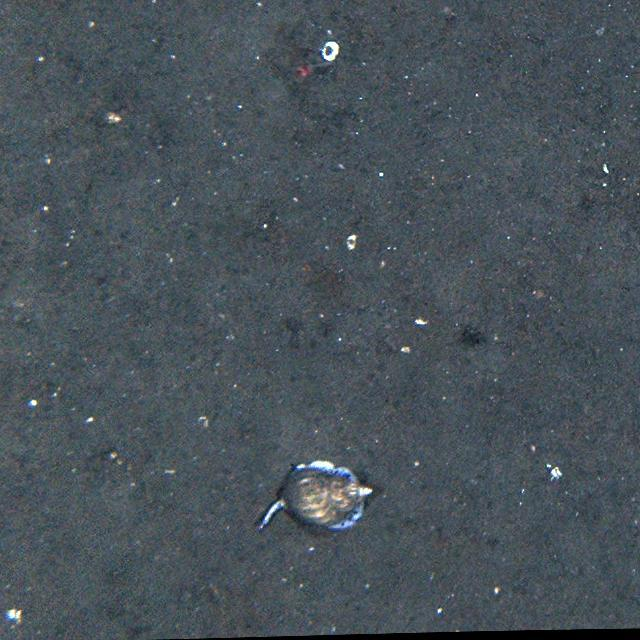whelk: (264, 457, 373, 535)
